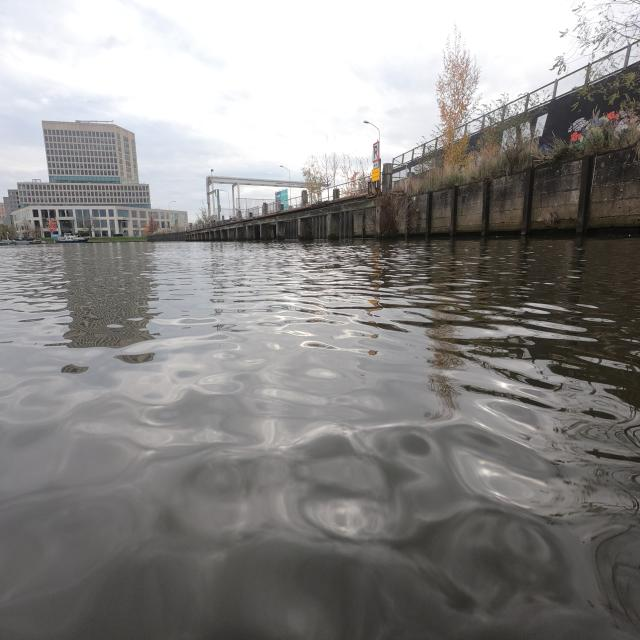sky: (10, 4, 564, 202)
wall: (308, 140, 638, 238), (188, 184, 386, 242)
water: (8, 238, 634, 630)
